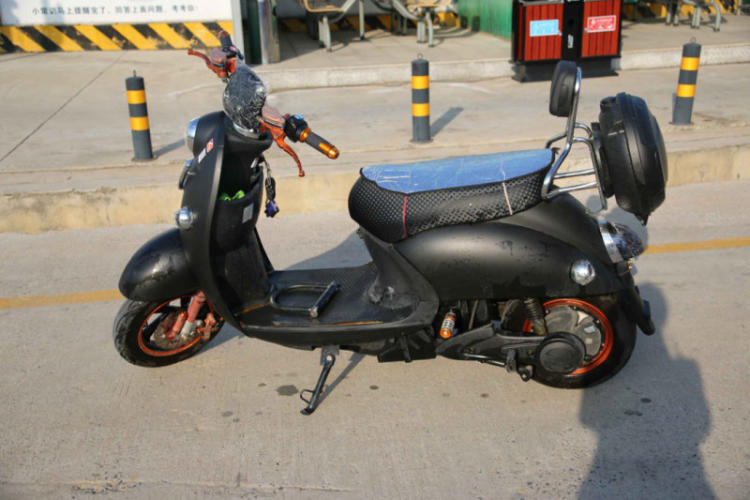电动车: (109, 43, 674, 404)
